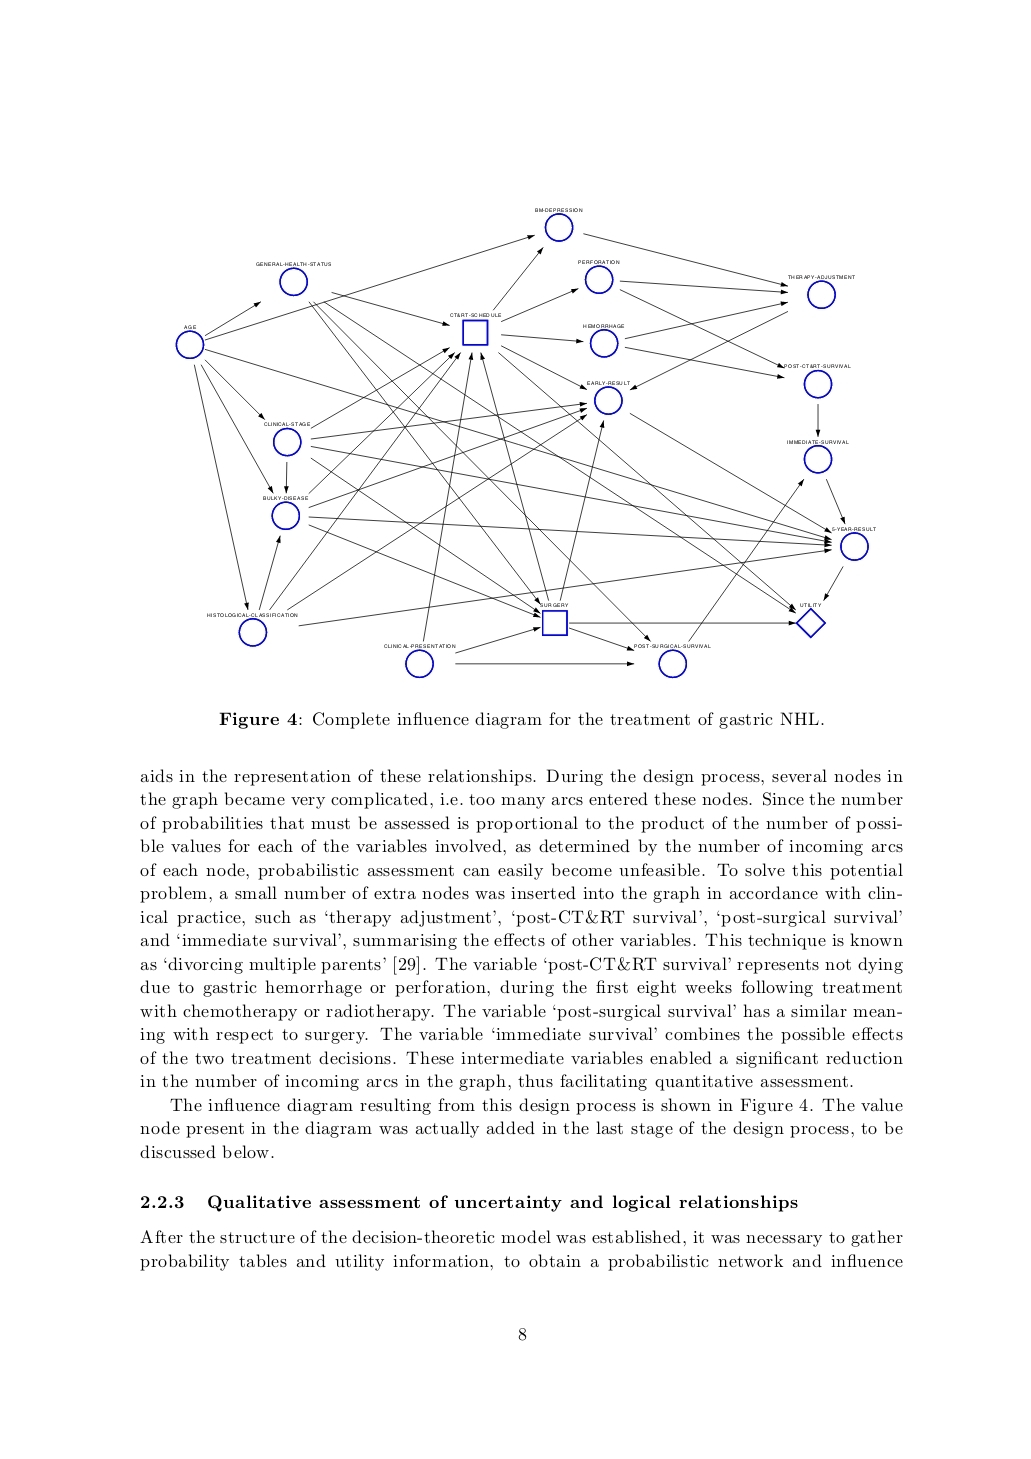figure: (175, 207, 875, 679)
